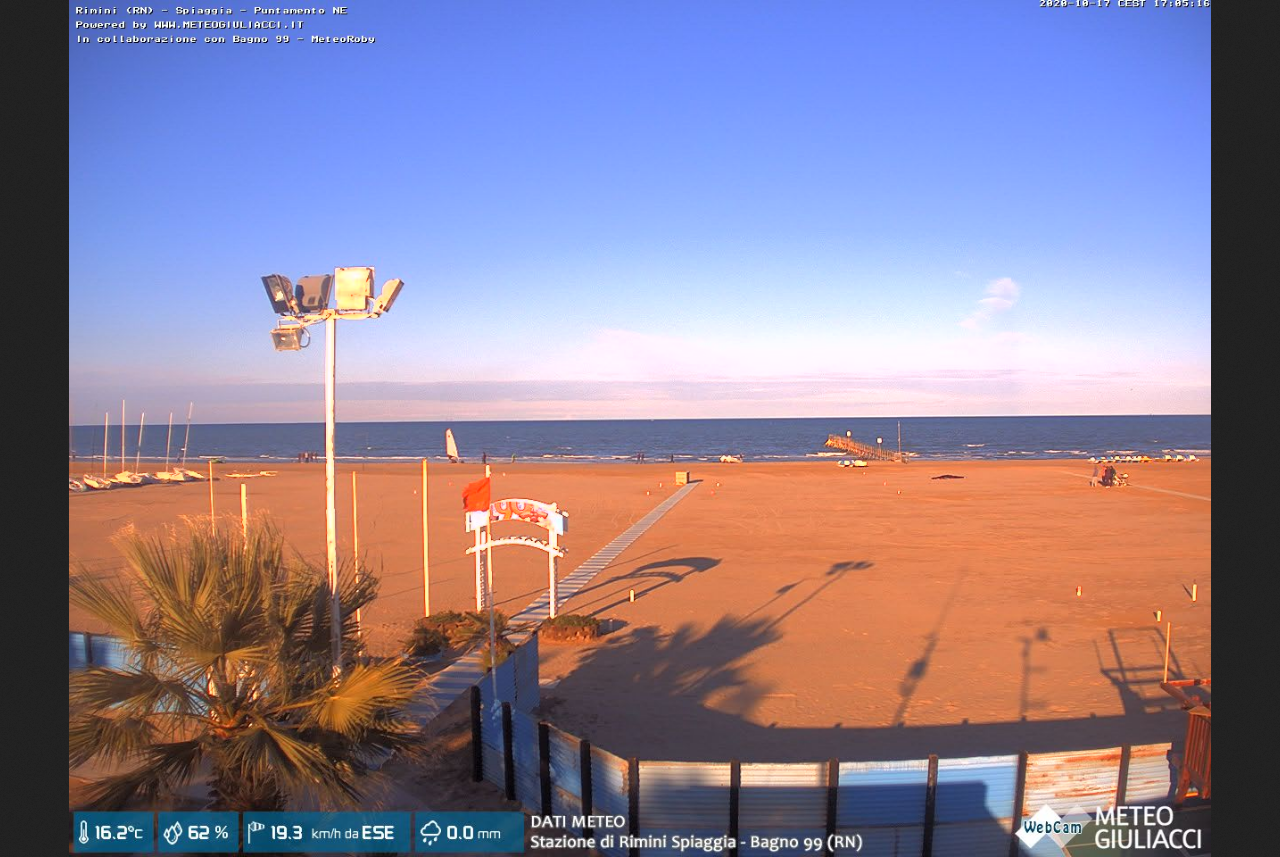yes: (455, 454, 498, 521)
